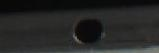holes: (72, 17, 105, 45)
